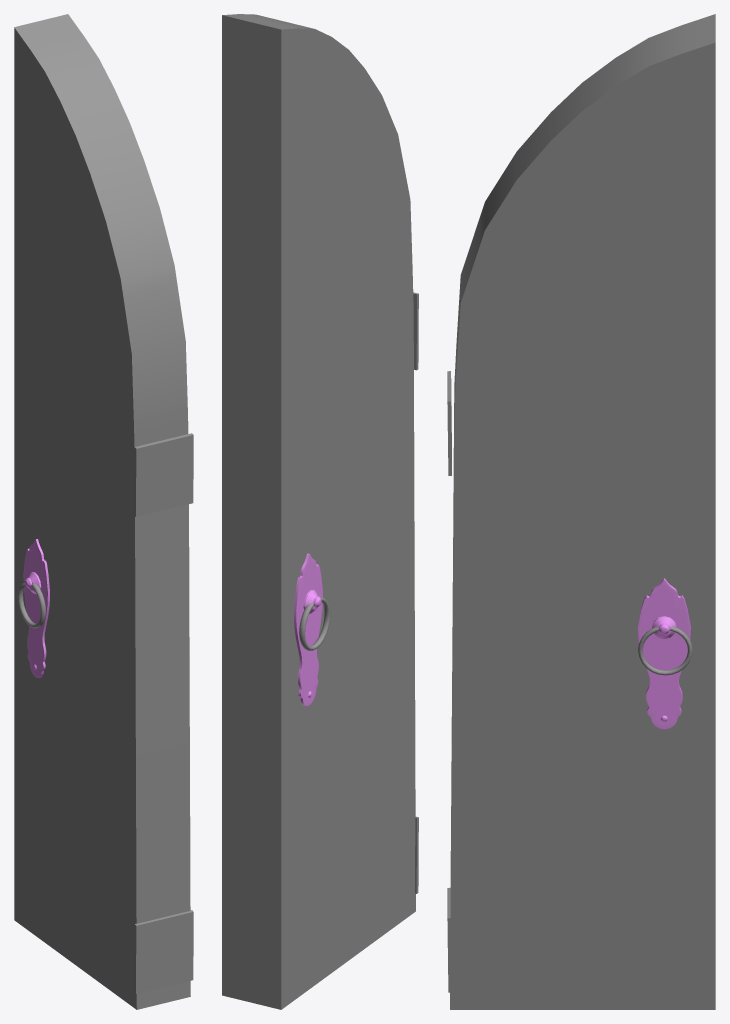
Rendered from SM_CastleEntranceBigDoor_B_001.FBX.
3 renders of one model, left to right at view 1: azimuth 30°, elevation 25°; view 2: azimuth 150°, elevation 25°; view 3: azimuth 270°, elevation 25°, orthographic. The views are drawn at different scales.
Parts seen in each view (by area): view 1: SM_CastleEntranceBigDoor_B_001; view 2: SM_CastleEntranceBigDoor_B_001; view 3: SM_CastleEntranceBigDoor_B_001.
Part boxes in pixels (x1,y1,x2,y2): SM_CastleEntranceBigDoor_B_001: [14, 14, 193, 1009]; SM_CastleEntranceBigDoor_B_001: [222, 14, 418, 1009]; SM_CastleEntranceBigDoor_B_001: [447, 14, 715, 1009].
Bounding box in the file's own units: 44.27 × 473 × 119.
